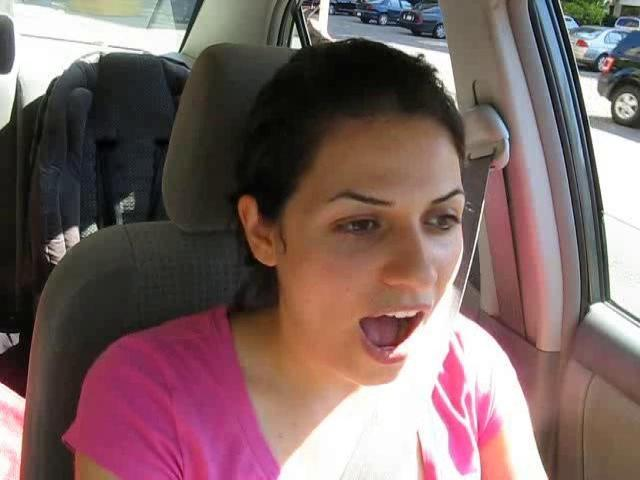eye_open: (327, 212, 385, 242), (423, 205, 462, 237)
face: (301, 154, 472, 390)
mouth_open: (352, 292, 439, 368)
